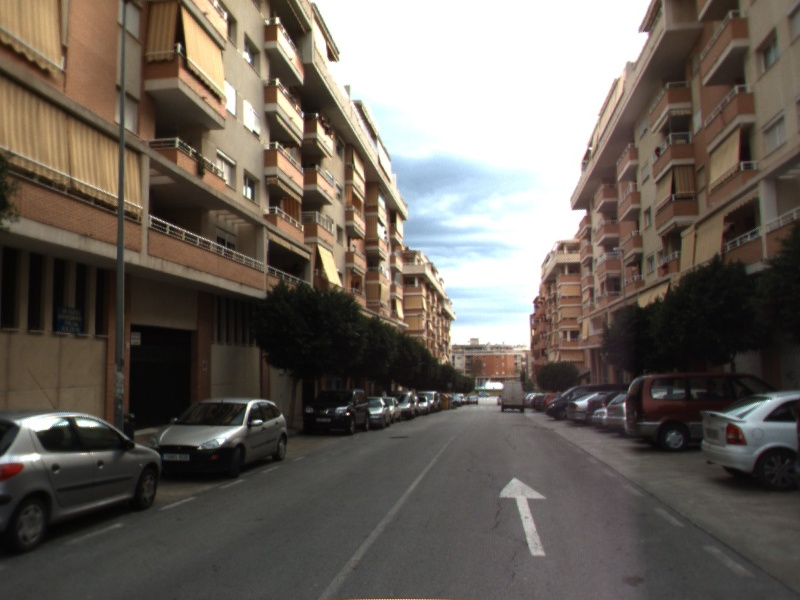STRAIGHT: (494, 474, 549, 558)
